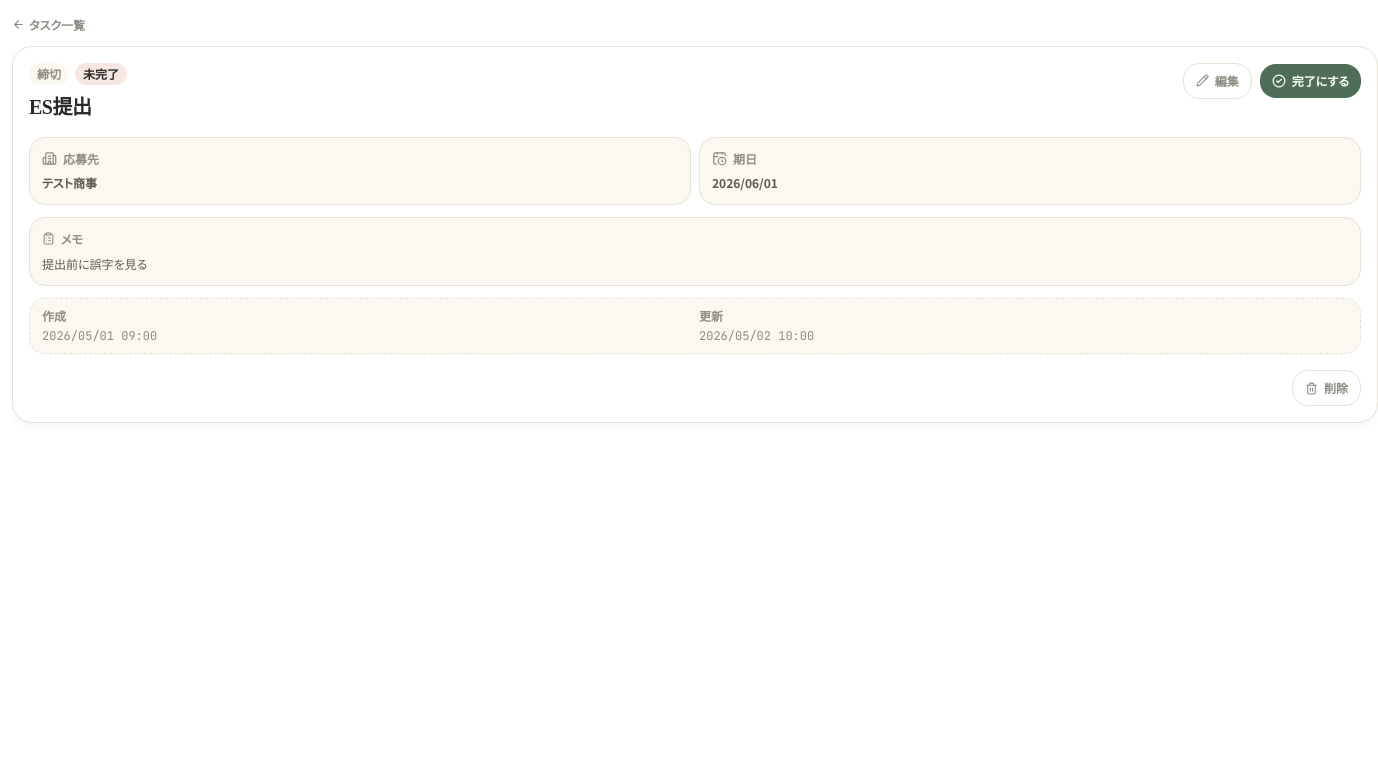
TaskDetailView › 編集フォームでタスク名を空にすると保存できずエラーを表示する
This screenshot has width=1378, height=780.
Step 1. Click the button "編集" → (1217,80), box left=1183, top=62, right=1252, bottom=98
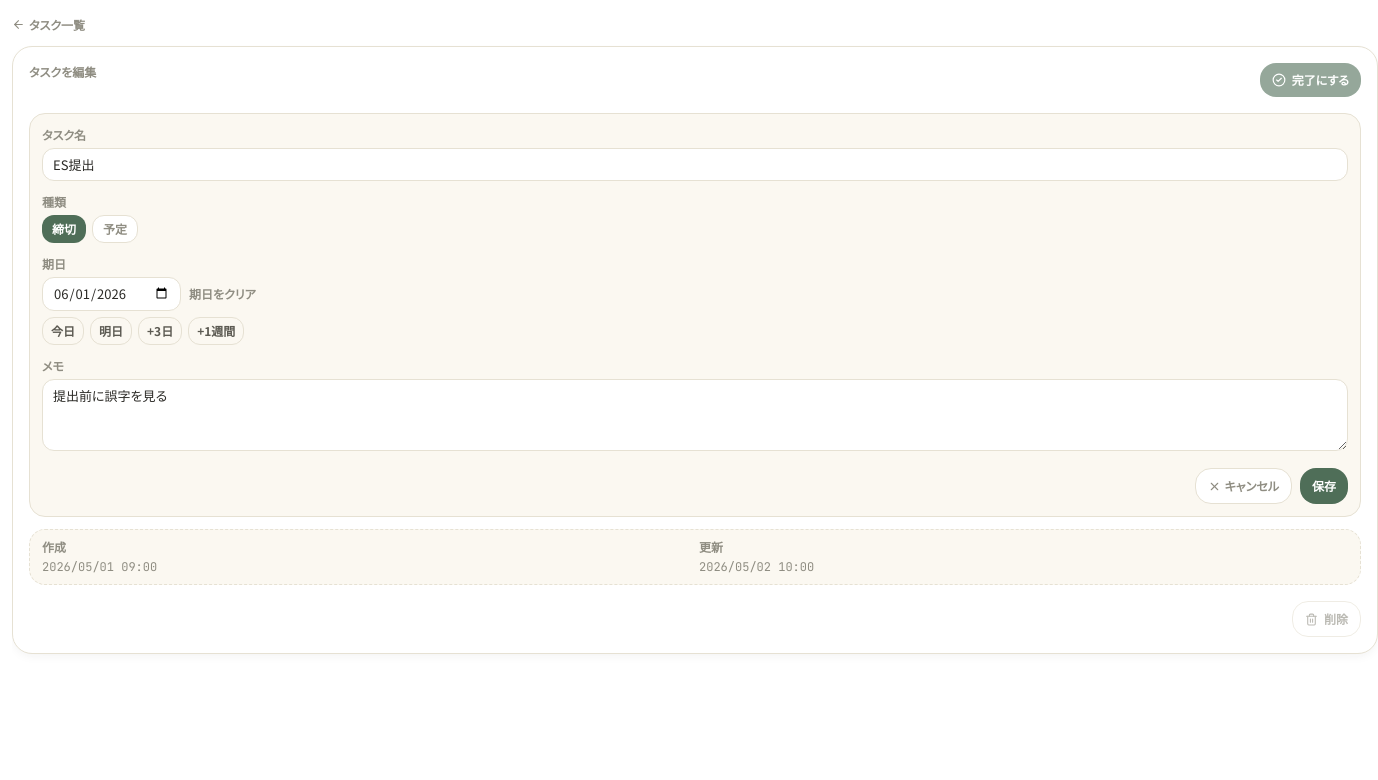
Step 2. Clear the field labelled "タスク名" → (695,164), box left=42, top=148, right=1348, bottom=181
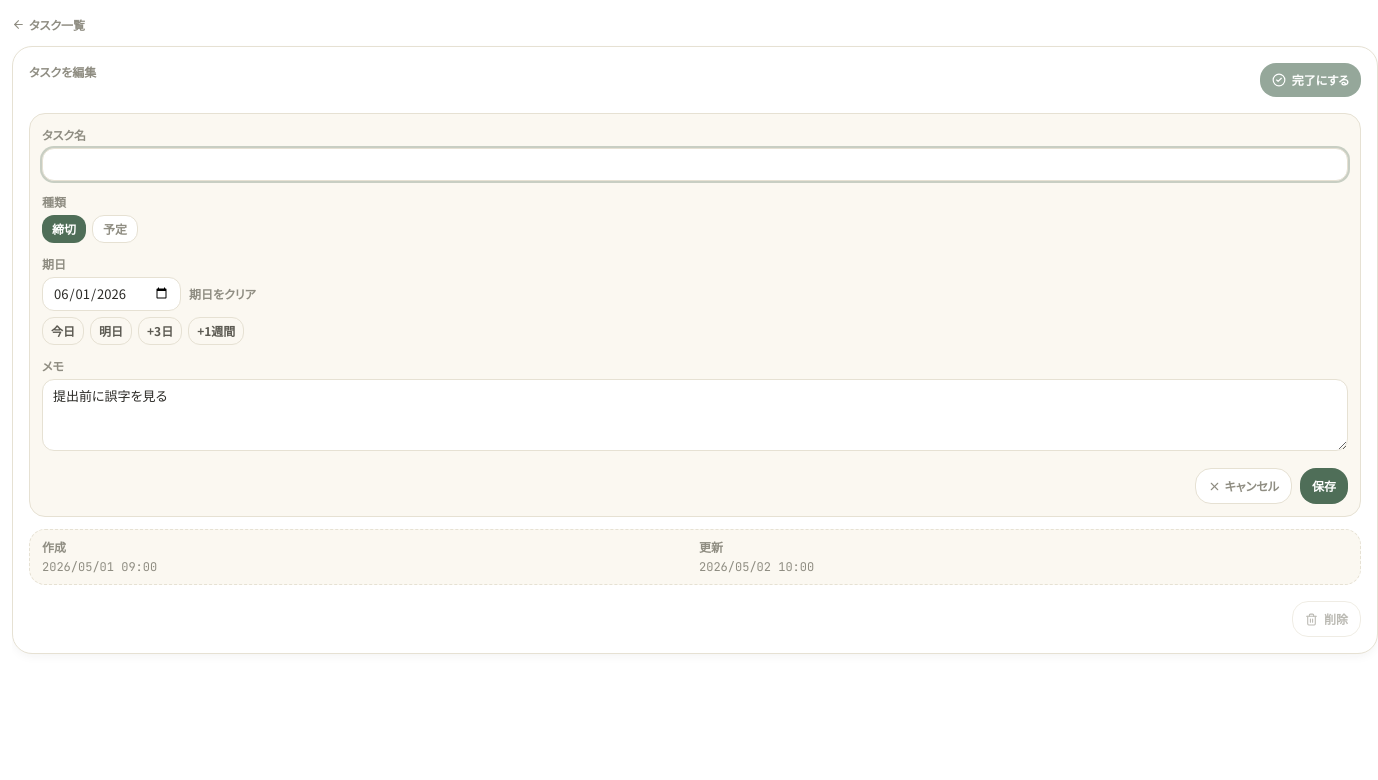
Step 3. Click the button "保存" → (1324,486), box left=1300, top=468, right=1348, bottom=504
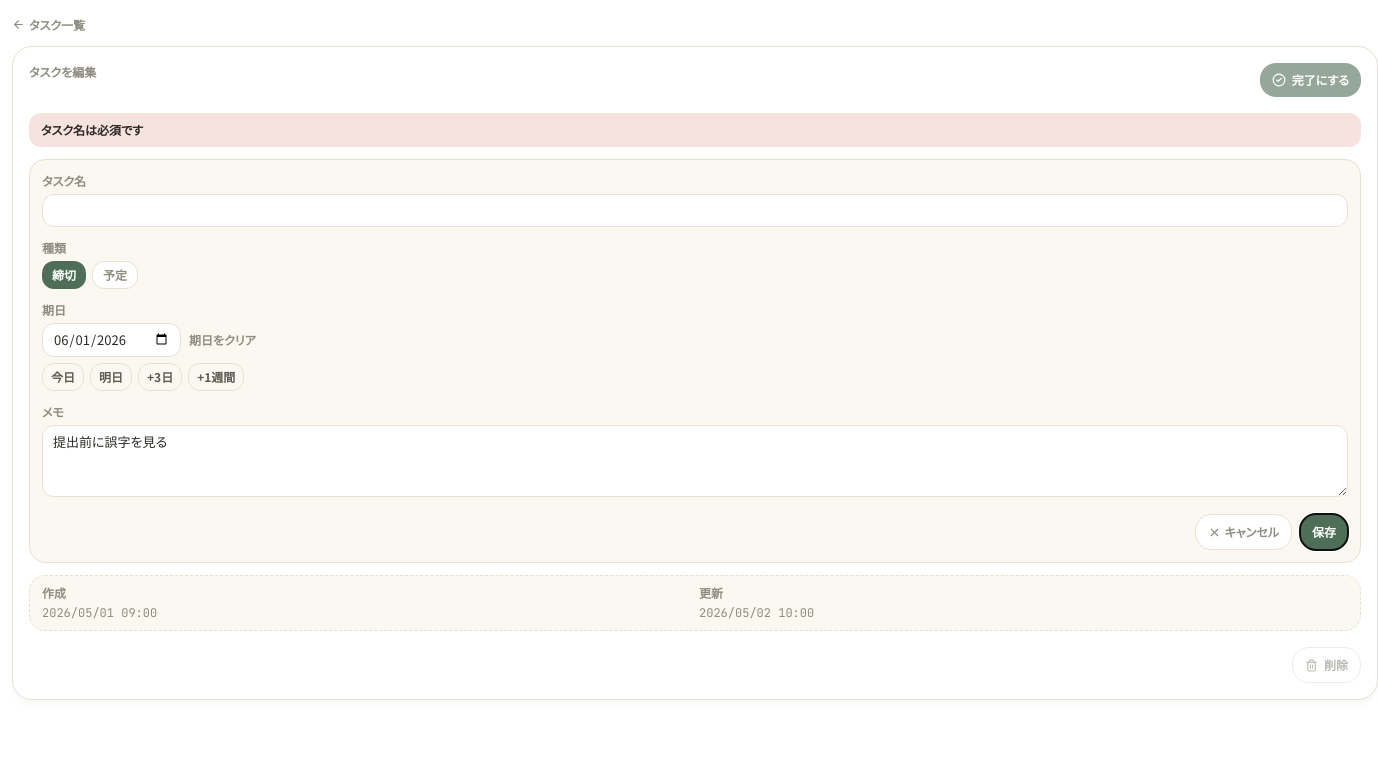
Now the message reads "タスク名は必須です", box left=41, top=120, right=143, bottom=138
